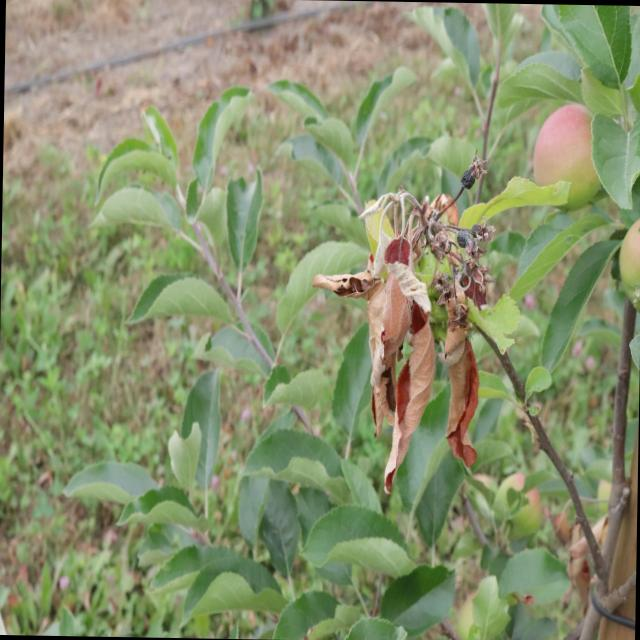-FireBlight-: (338, 172, 491, 478)
